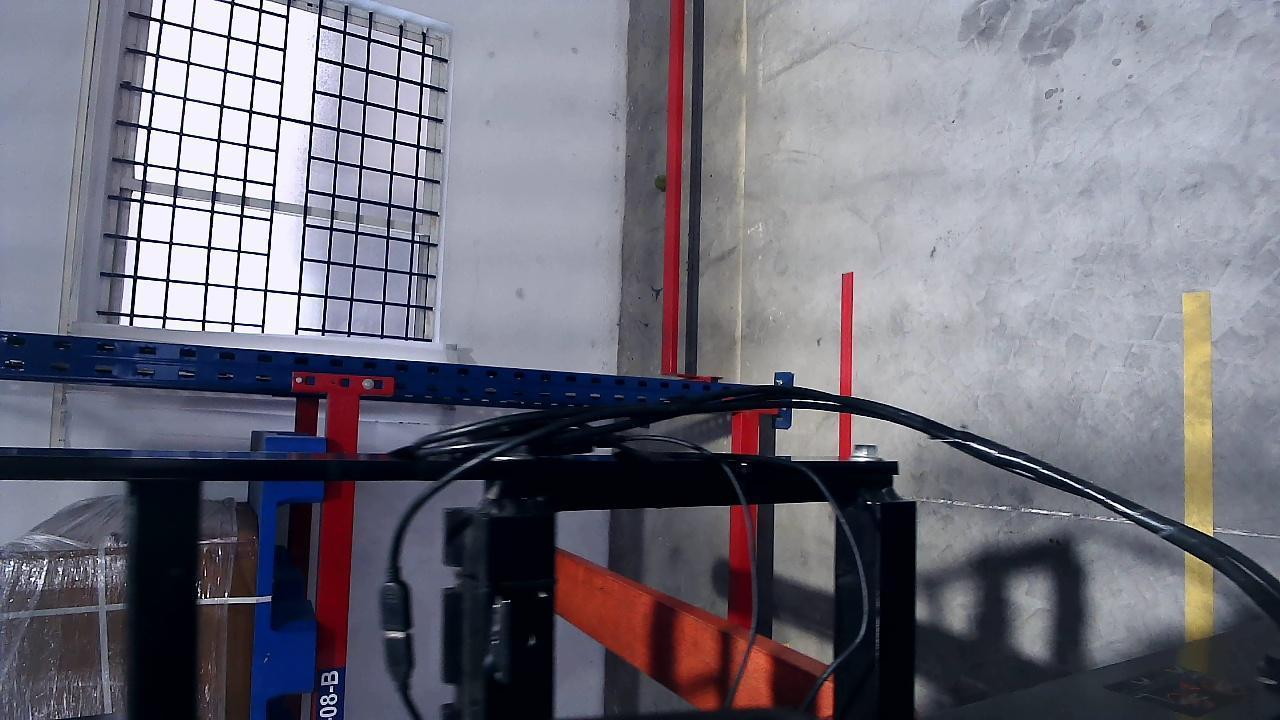red_line: (838, 272, 854, 458)
yellow_line: (1182, 291, 1210, 639)
